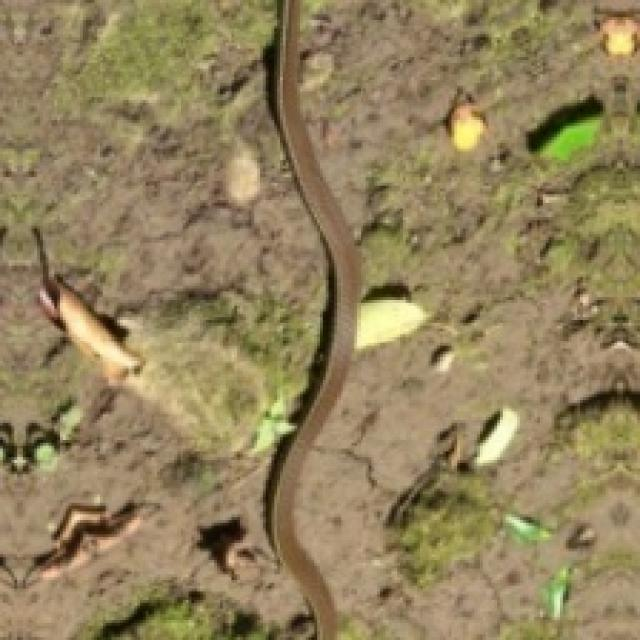philippine bronzeback treesnake: (266, 0, 357, 637)
